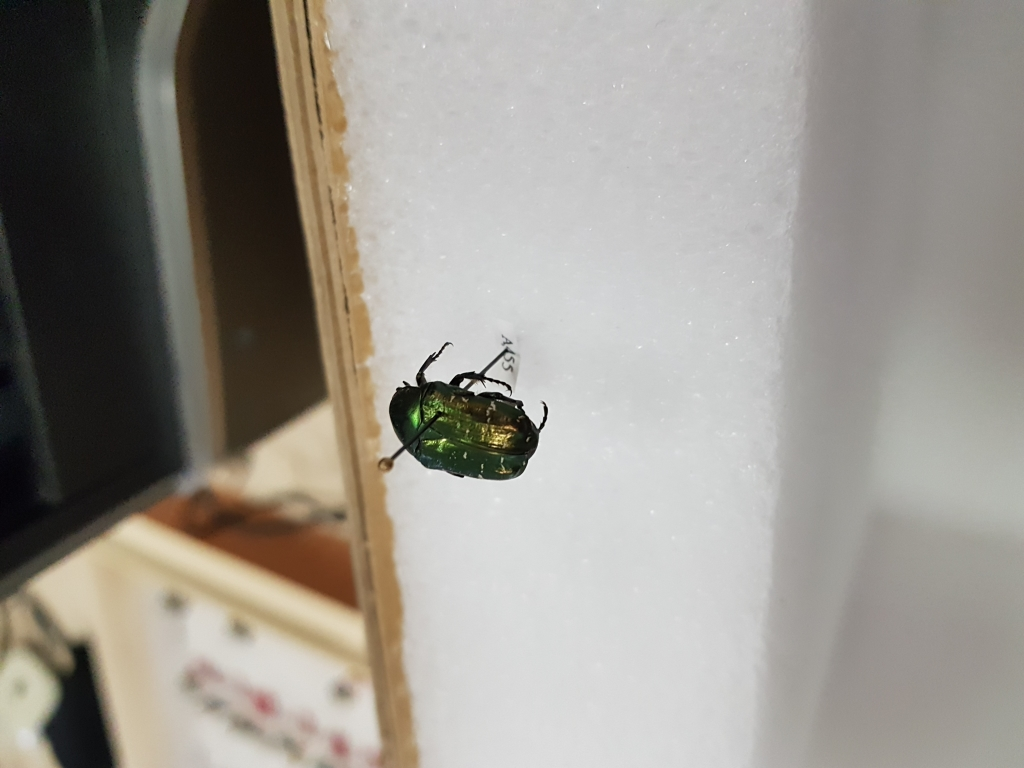Cetonia_kemali: (385, 340, 552, 484)
